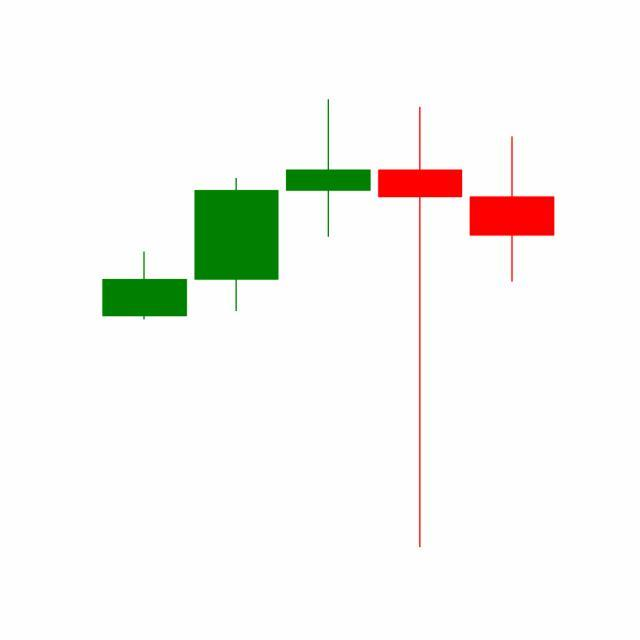Spinning Top: (374, 103, 468, 553)
